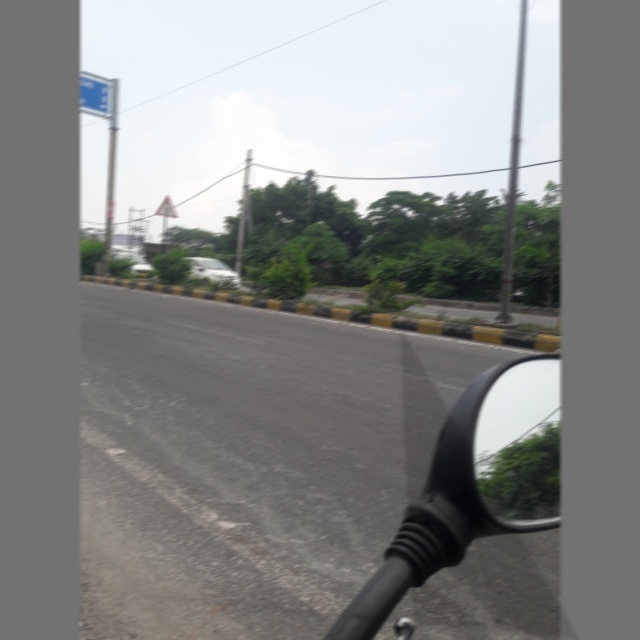Gap_in_Median: (154, 190, 180, 221)
